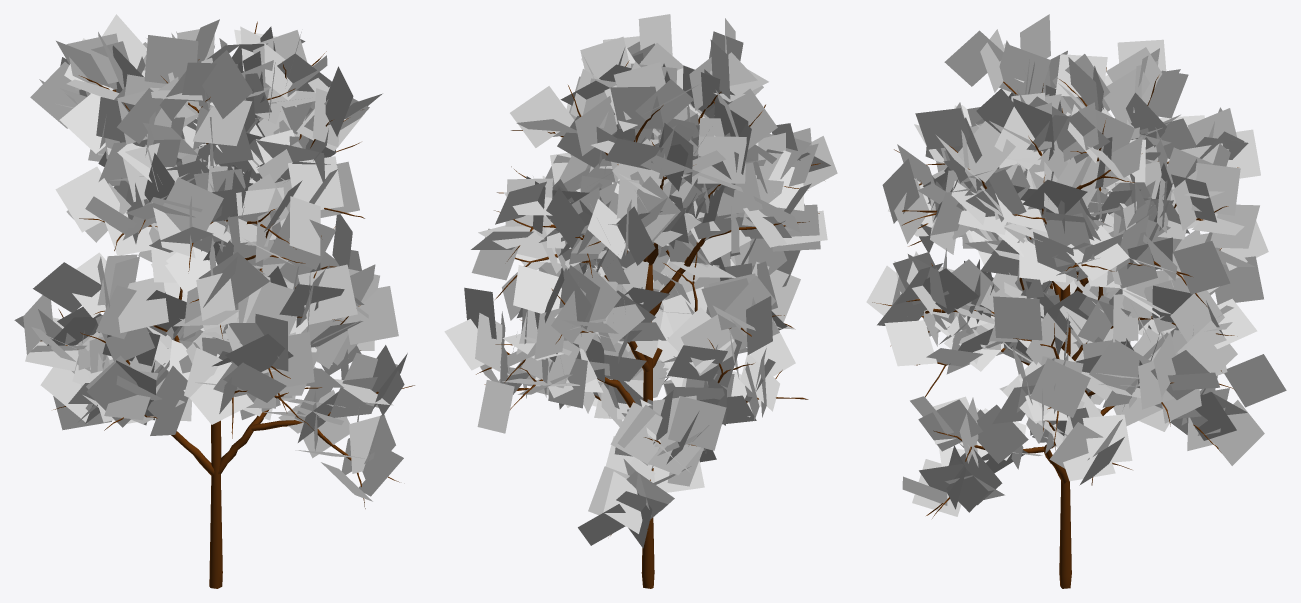
The model's file is arvore3.glb.
3 views of the same model, side by side, from view 1: azimuth 30°, elevation 25°; view 2: azimuth 150°, elevation 25°; view 3: azimuth 270°, elevation 25° (orthographic). The views are drawn at different scales.
Visible parts, largest first — view 1: arvore3; view 2: arvore3; view 3: arvore3.
Part boxes in pixels (x1,y1,x2,y2): arvore3: (14, 14, 414, 588); arvore3: (444, 14, 837, 588); arvore3: (866, 14, 1286, 588).
Bounding box in the file's own units: 15.77 × 26.01 × 18.34.
